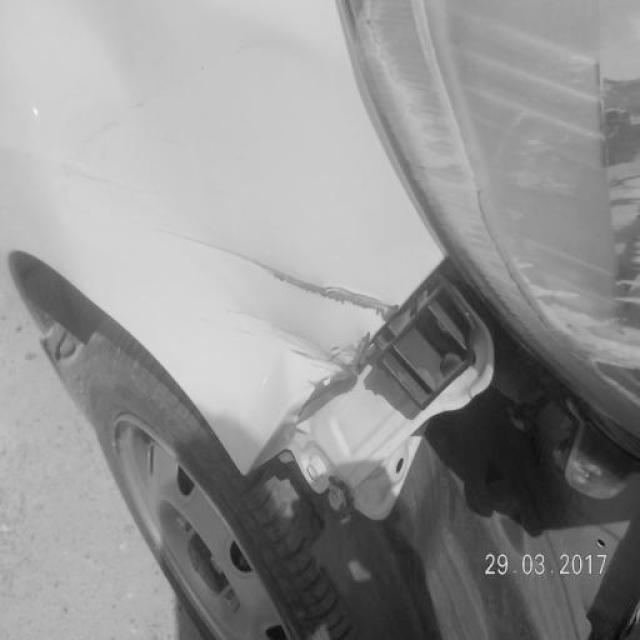car damage: (46, 30, 323, 220), (147, 221, 408, 327), (214, 296, 377, 388)
